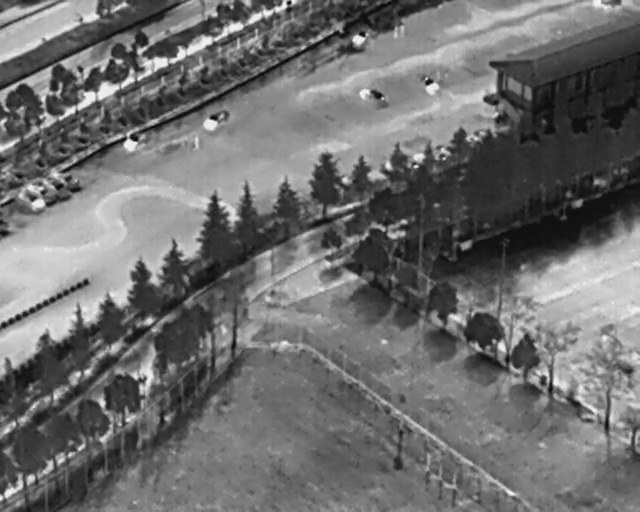Car: (50, 164, 85, 198), (25, 176, 61, 209), (41, 171, 75, 203), (198, 105, 233, 136), (357, 82, 390, 113), (416, 69, 447, 101), (119, 126, 149, 157), (17, 185, 46, 214), (350, 24, 374, 50)
